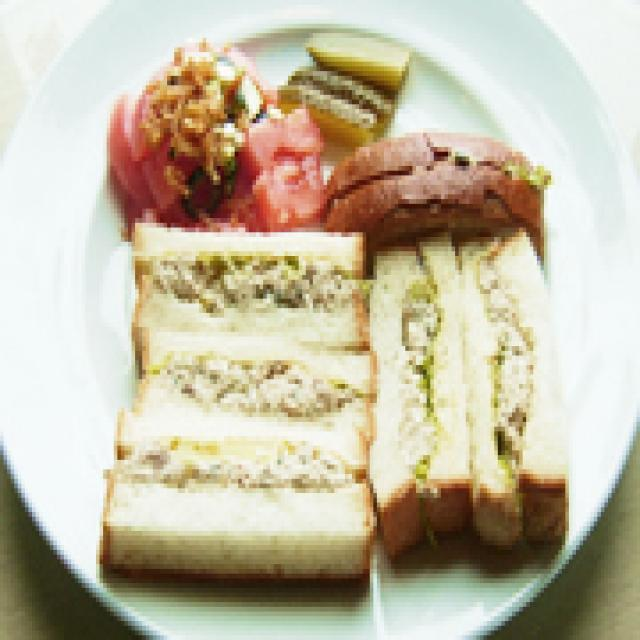三明治: (128, 194, 565, 588)
